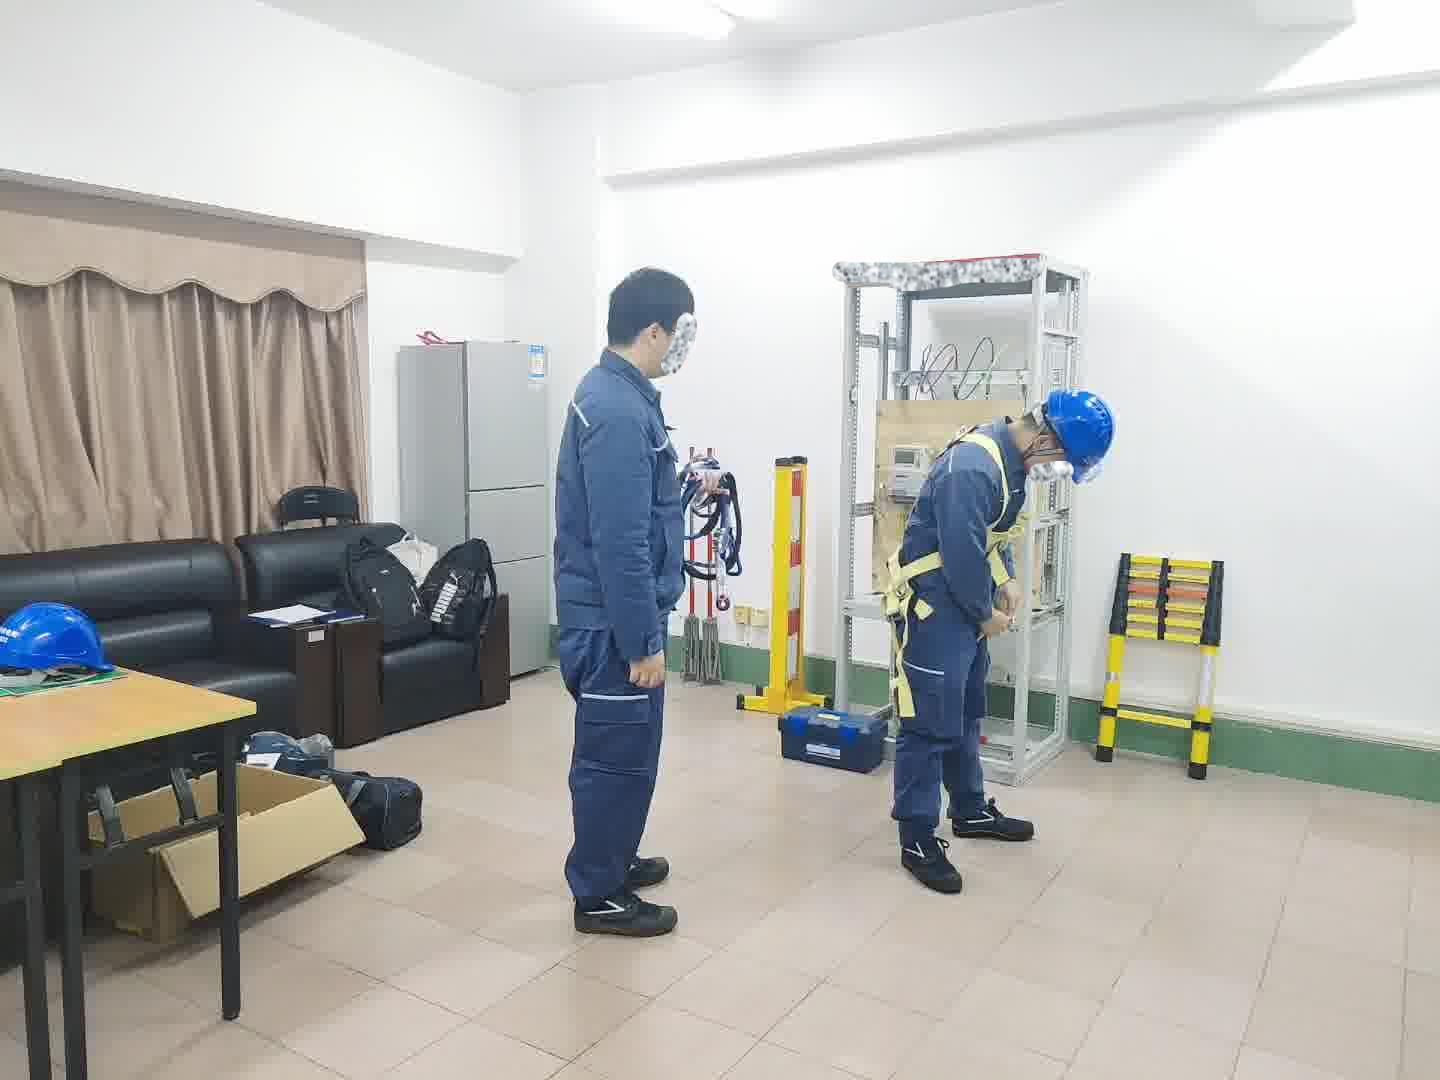halt: (1039, 390, 1119, 489)
inear: (1025, 431, 1064, 472)
noear: (636, 317, 675, 361)
unhalt: (605, 272, 703, 377)
